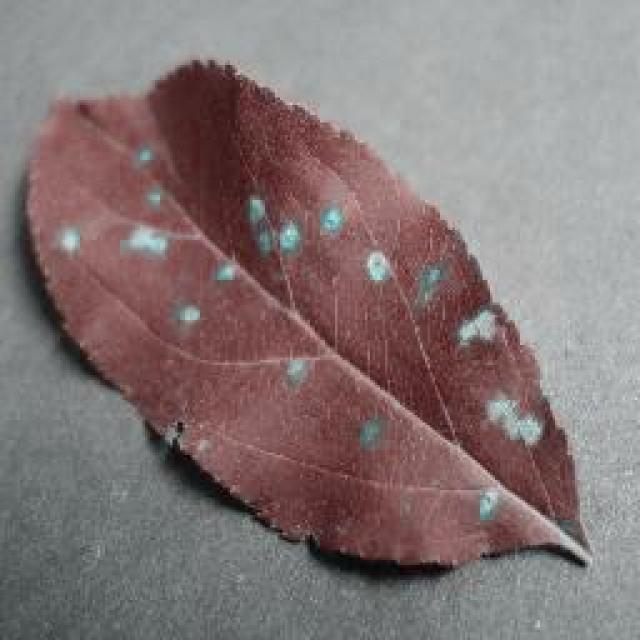apple healthy: (18, 55, 592, 573)
